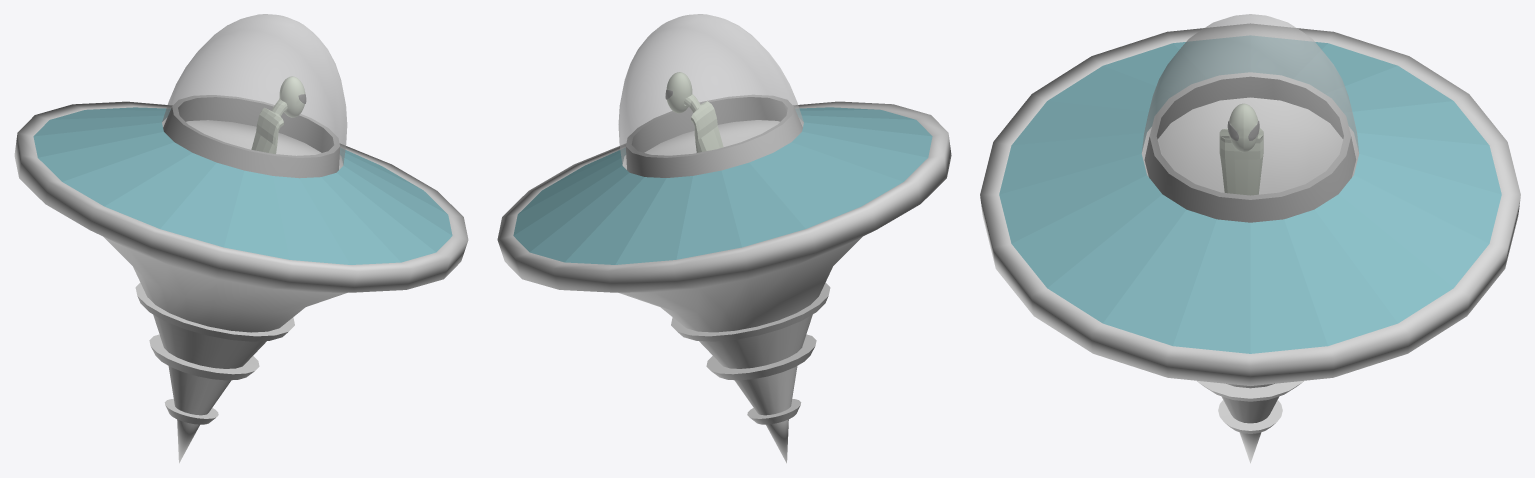
The model's file is alien_and_ufo.fbx.
3 renders of one model, left to right at view 1: azimuth 30°, elevation 25°; view 2: azimuth 150°, elevation 25°; view 3: azimuth 270°, elevation 25°, orthographic. The views are drawn at different scales.
Visible parts, largest first — view 1: pCone3; view 2: pCone3; view 3: pCone3.
Part boxes in pixels (x1,y1,x2,y2): pCone3: [14, 14, 468, 463]; pCone3: [497, 14, 951, 463]; pCone3: [980, 14, 1520, 463].
Bounding box in the file's own units: 30.15 × 31.02 × 30.87.
